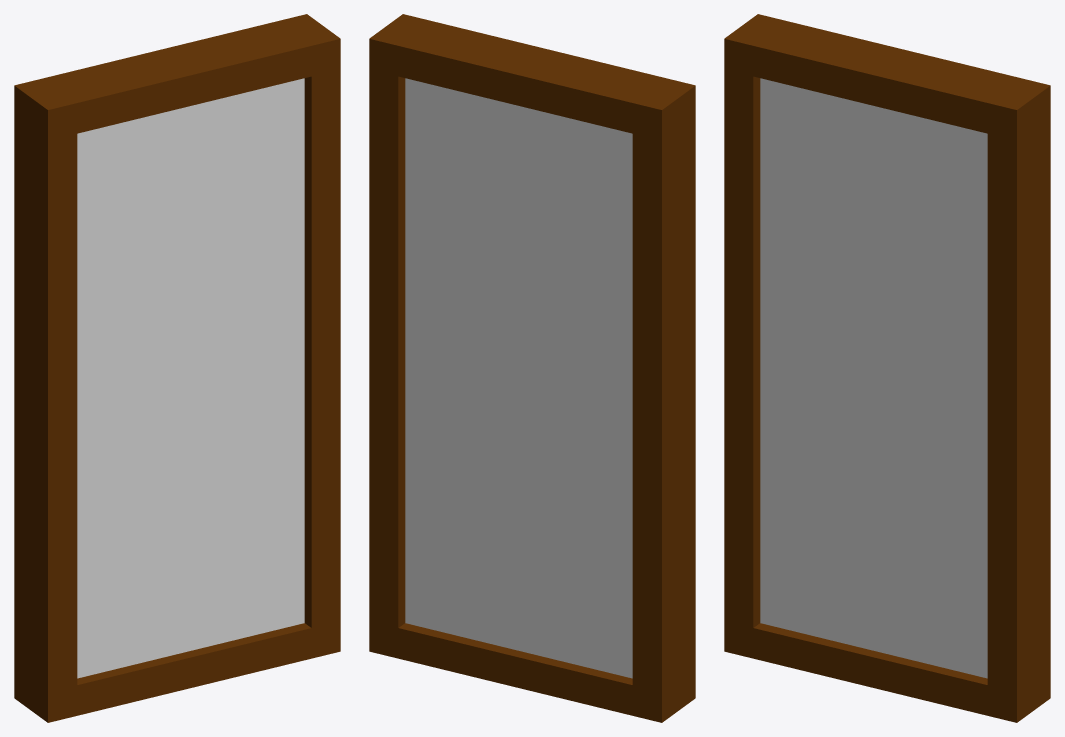
File: Piece-69.obj
The picture shows the model from 3 angles, left to right: view 1: azimuth 30°, elevation 25°; view 2: azimuth 150°, elevation 25°; view 3: azimuth 330°, elevation 25°; orthographic projection.
Bounding box in the file's own units: 5 × 10 × 1.
Materials: 1 (1 with a texture image).
